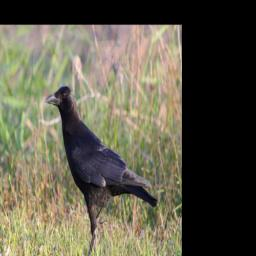Crow: (44, 83, 159, 256)
